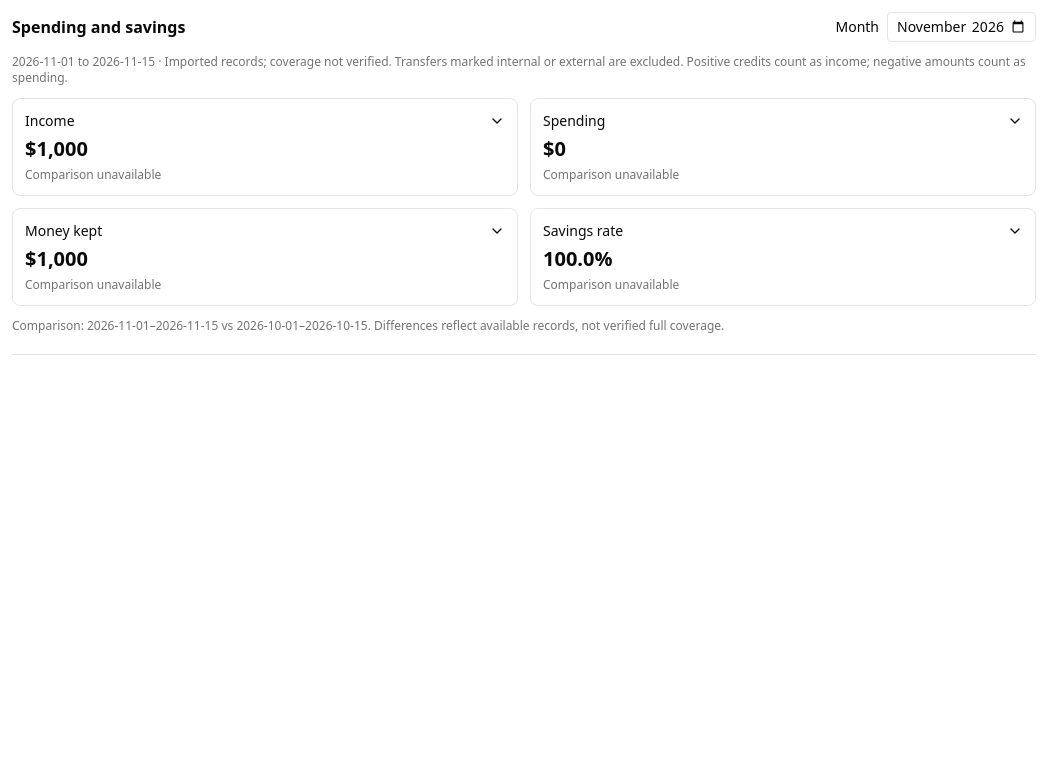
expands the calculation and updates on month selection
Click the button "Income $1,000 Comparison unavailable": (50, 120) [13, 99, 517, 195]
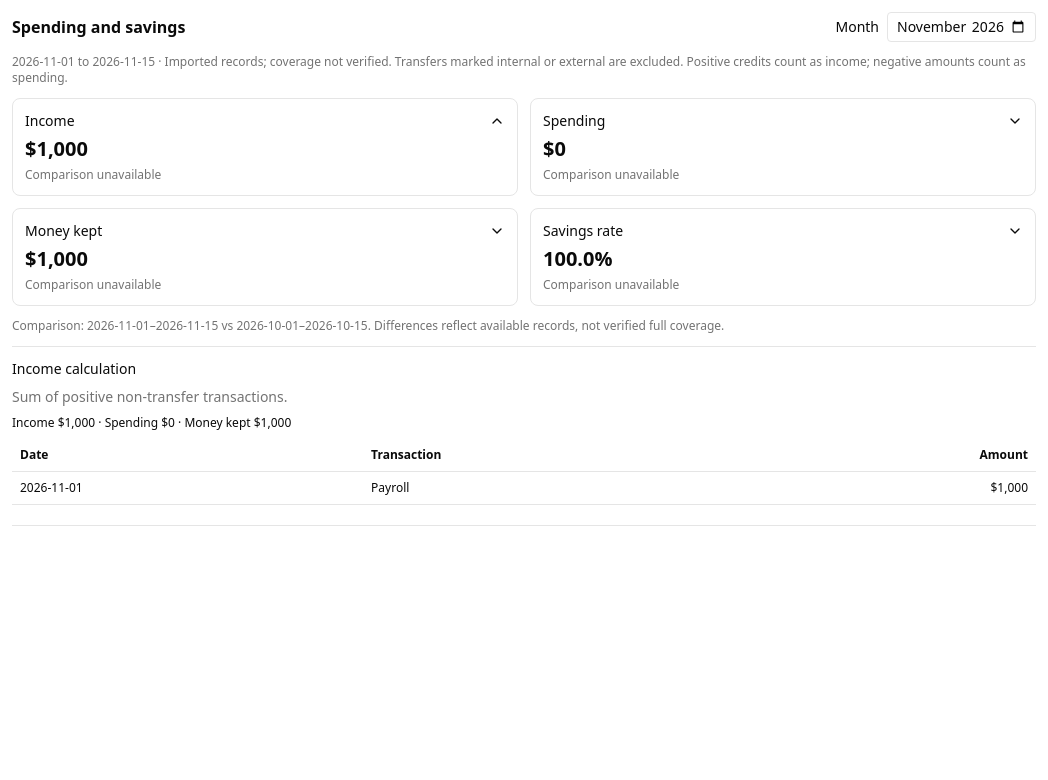
Now the text "Payroll" is shown, box [363, 472, 748, 504]
Now the button "Income $1,000 Comparison unavailable" is expanded, box [13, 99, 517, 195]
Replace the text in the field named "Summary month" with "2020-01": (962, 27) [887, 12, 1036, 42]
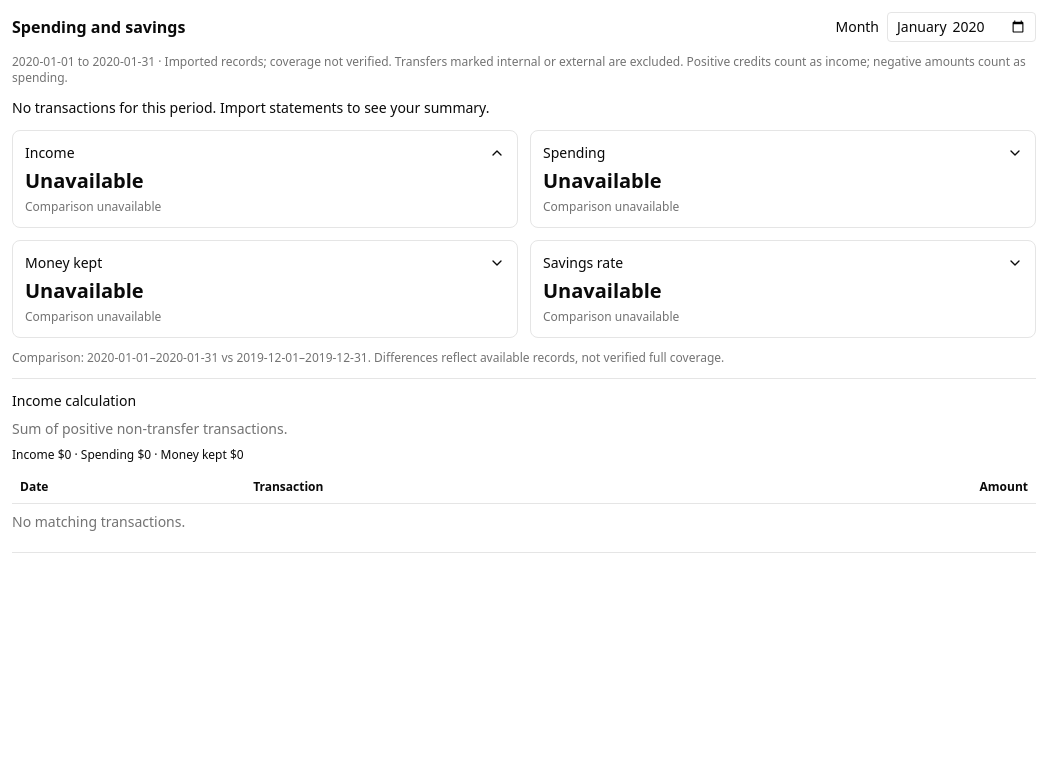
Now the text "No transactions for this period" is shown, box [12, 98, 490, 117]
